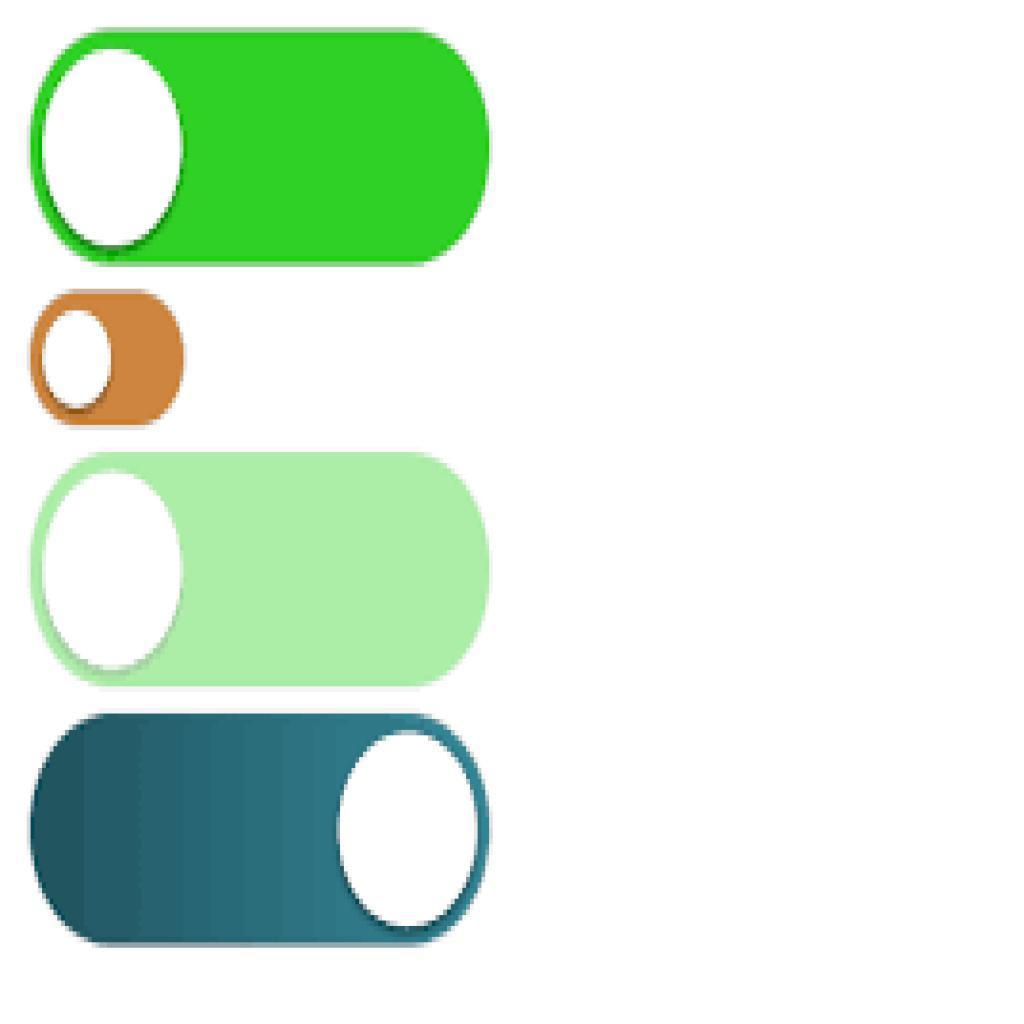switch: (25, 697, 495, 962), (26, 25, 505, 274), (25, 444, 498, 695), (24, 281, 204, 436)
